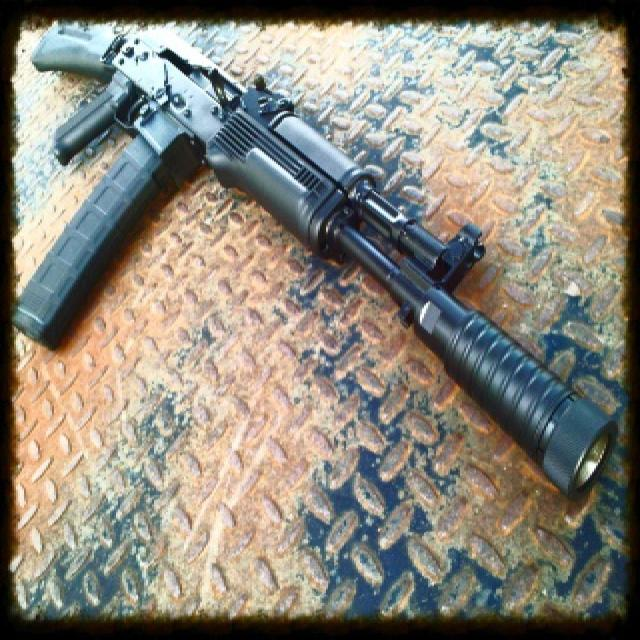rifle: (9, 8, 625, 500)
